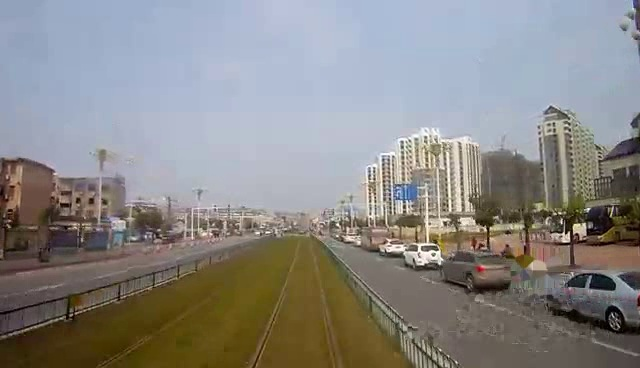car: (439, 249, 518, 287), (403, 242, 450, 271), (381, 237, 410, 260), (547, 323, 566, 334)
